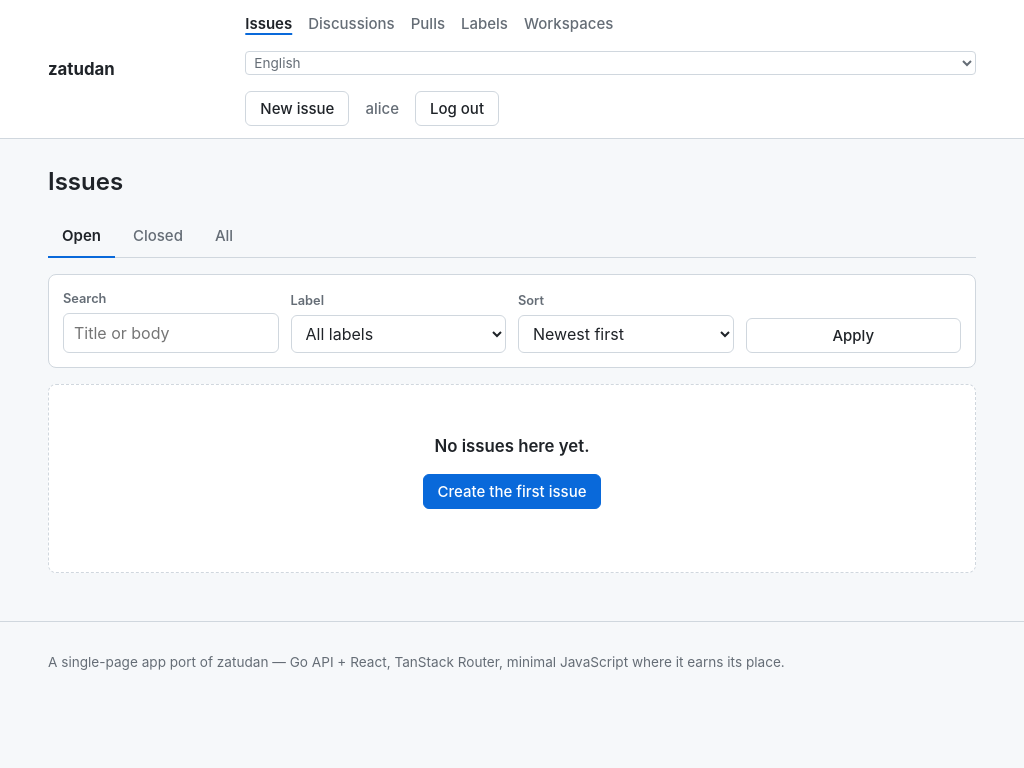
Test: auth nav › logs out and returns the nav to anonymous
Expected: the text "alice" is shown, [365, 97, 399, 120]
Click the button "Log out" at (457, 109), box [415, 91, 499, 126]
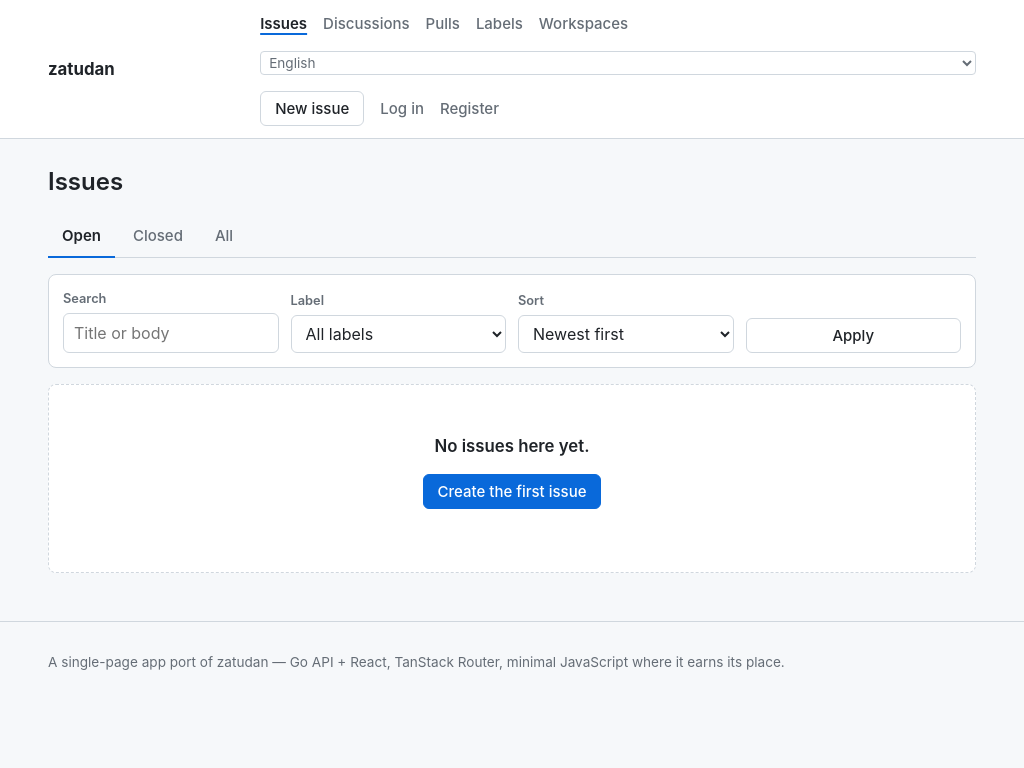
Result: the link "Log in" is shown at [380, 97, 424, 120]
